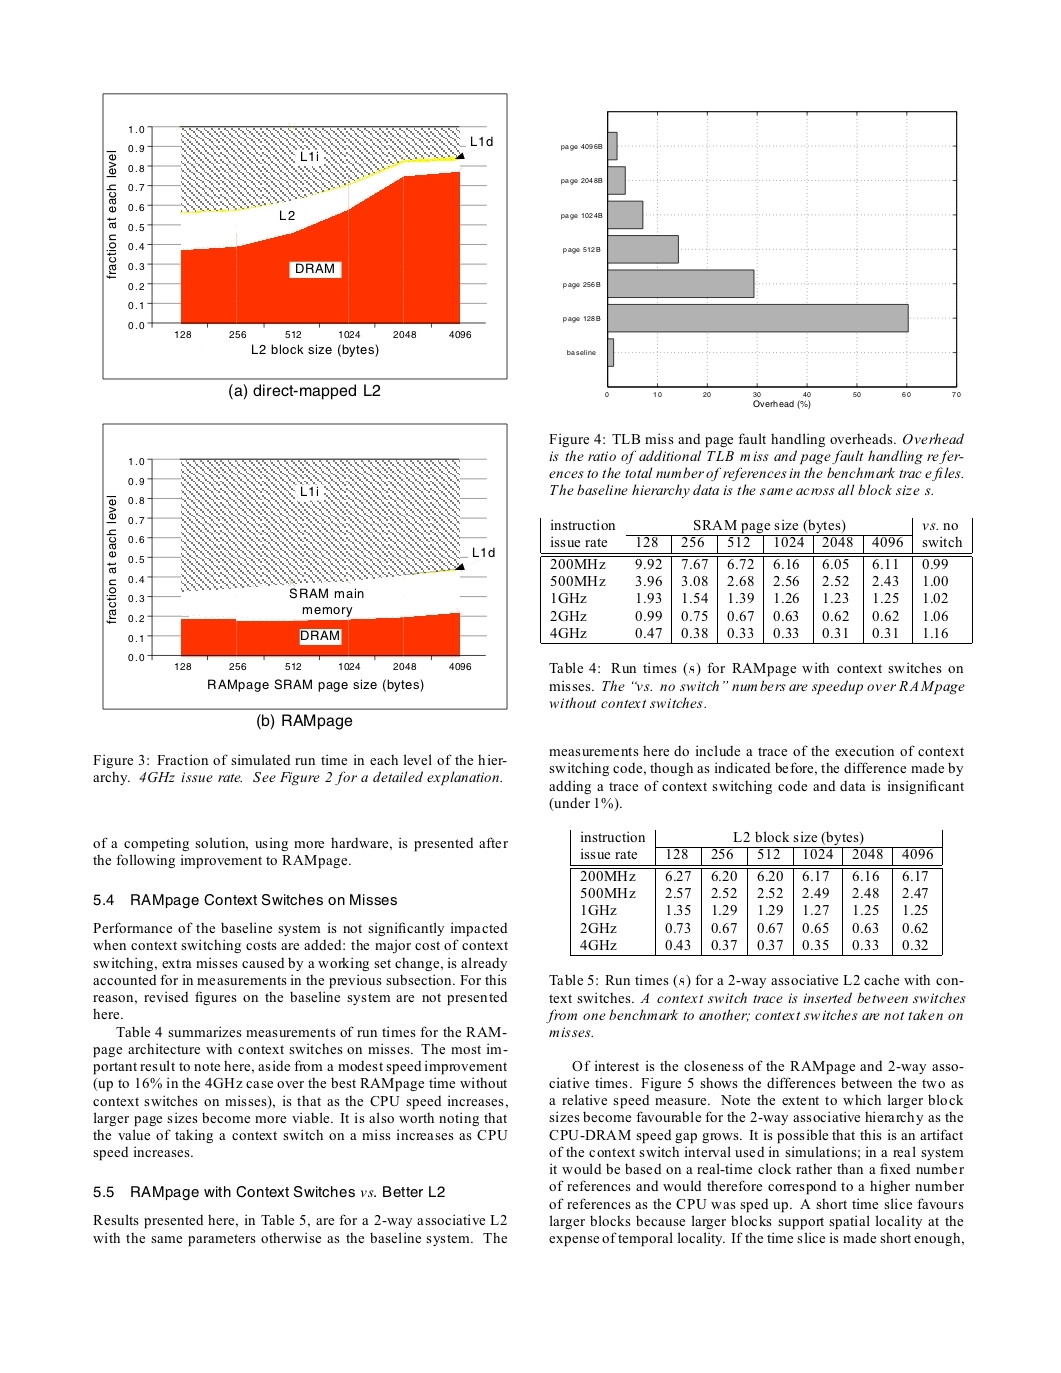Table: (541, 517, 972, 644), (570, 829, 942, 956)
figure: (561, 111, 960, 408), (103, 92, 507, 380), (103, 422, 507, 710)
